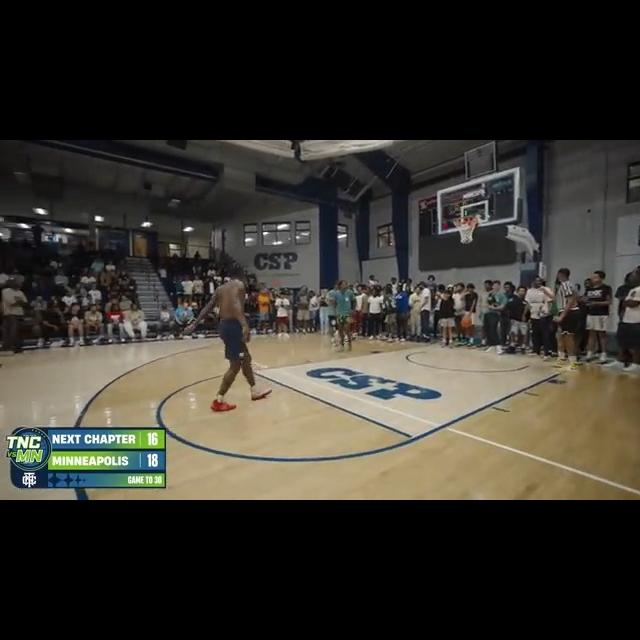hoop: (455, 217, 478, 244)
